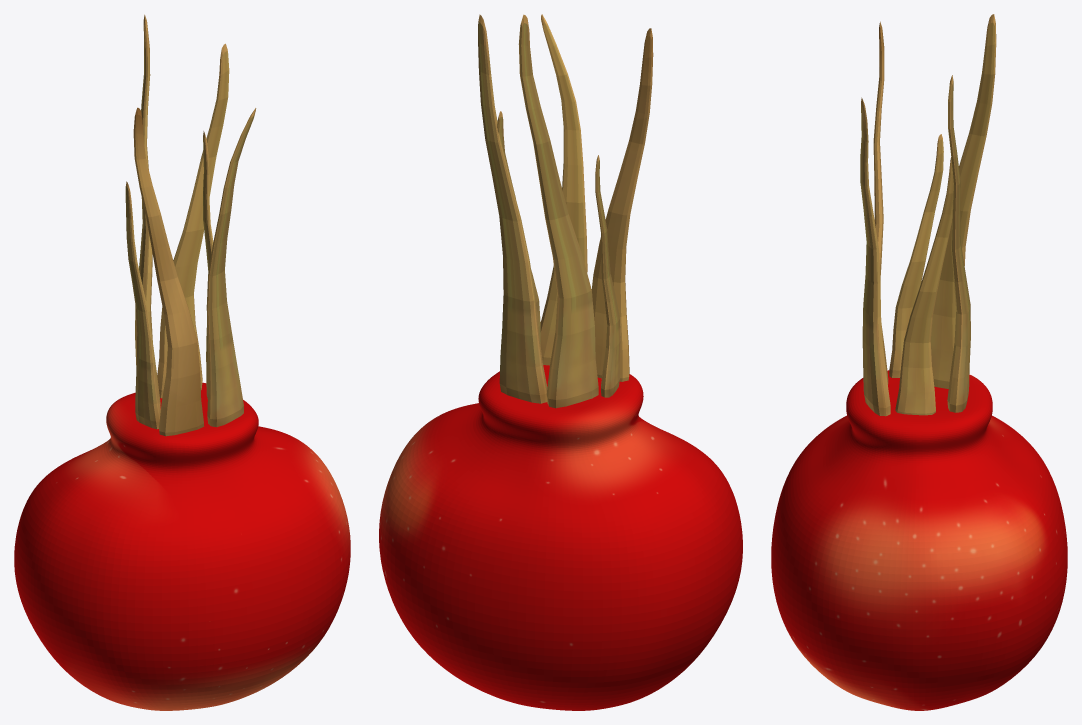
Rendered from Rose Seed.fbx.
3 renders of one model, left to right at view 1: azimuth 30°, elevation 25°; view 2: azimuth 150°, elevation 25°; view 3: azimuth 270°, elevation 25°, orthographic. The views are drawn at different scales.
Parts seen in each view (by area): view 1: Cube, Cube.001, Cube.002, Cube.004, Cube.006, Cube.005, Cube.003; view 2: Cube, Cube.005, Cube.004, Cube.001, Cube.002, Cube.006; view 3: Cube, Cube.005, Cube.003, Cube.002, Cube.004, Cube.006, Cube.001.
Boxes of the visible parts, bbox=[...] form: Cube: bbox=[14, 382, 350, 710]; Cube.001: bbox=[133, 107, 204, 436]; Cube.002: bbox=[206, 108, 256, 427]; Cube.004: bbox=[157, 43, 229, 398]; Cube.006: bbox=[125, 181, 160, 429]; Cube.005: bbox=[135, 14, 160, 407]; Cube.003: bbox=[203, 131, 213, 399]; Cube: bbox=[379, 365, 742, 710]; Cube.005: bbox=[518, 14, 598, 408]; Cube.004: bbox=[478, 14, 547, 403]; Cube.001: bbox=[591, 28, 653, 381]; Cube.002: bbox=[540, 14, 587, 365]; Cube.006: bbox=[595, 155, 620, 397]; Cube: bbox=[771, 370, 1067, 710]; Cube.005: bbox=[930, 14, 996, 388]; Cube.003: bbox=[895, 157, 953, 415]; Cube.002: bbox=[860, 97, 890, 416]; Cube.004: bbox=[947, 75, 970, 412]; Cube.006: bbox=[889, 134, 943, 377]; Cube.001: bbox=[873, 21, 888, 384].
Size of the model in its own units: 135 by 284 by 113.
